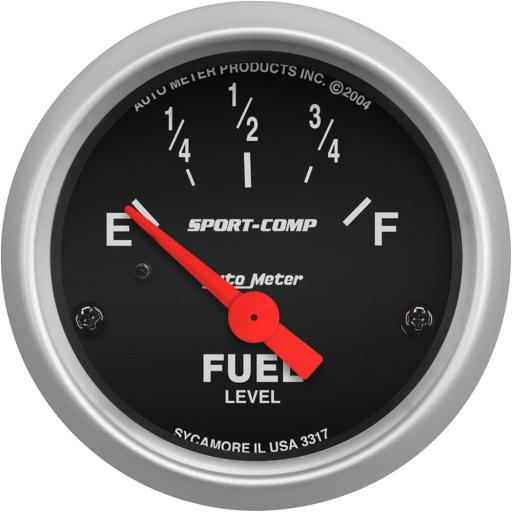empty: (104, 214, 134, 247)
full: (370, 208, 406, 252)
guage_area: (7, 16, 505, 512)
needle_center: (213, 288, 291, 345)
needle_tip: (124, 197, 156, 232)
